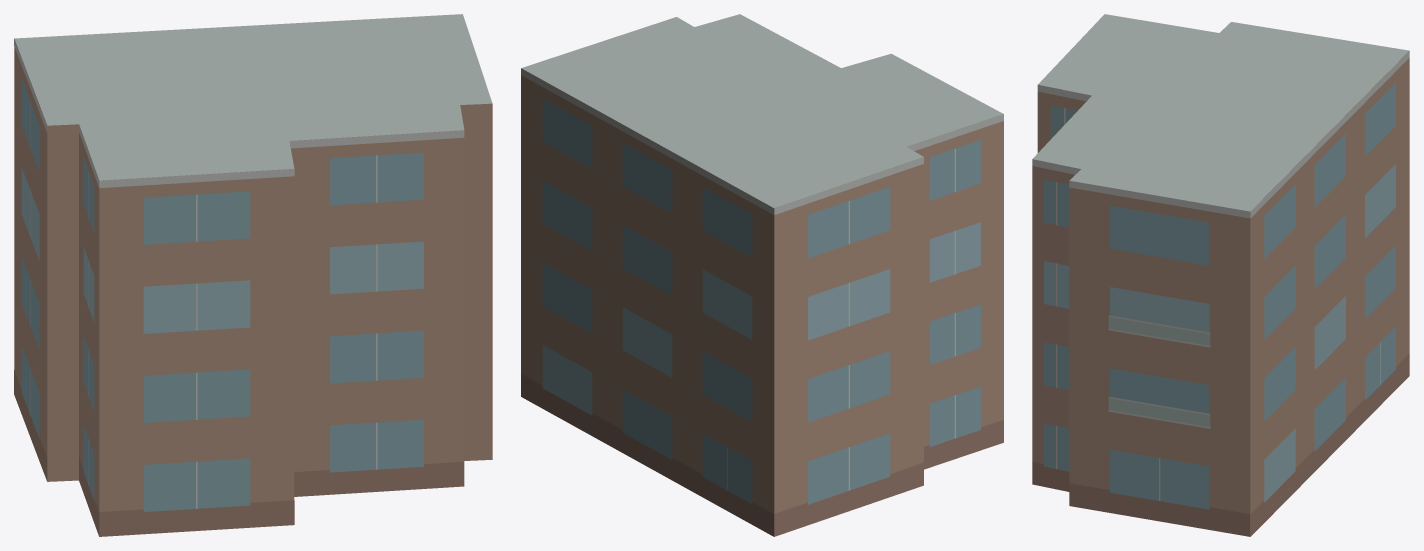
Rendered from survey-upis-32528769.glb.
3 views of the same model, side by side, from view 1: azimuth 30°, elevation 25°; view 2: azimuth 150°, elevation 25°; view 3: azimuth 270°, elevation 25° (orthographic). The views are drawn at different scales.
Visible parts, largest first — view 1: survey-upis-32528769.tmp; view 2: survey-upis-32528769.tmp; view 3: survey-upis-32528769.tmp.
Boxes of the visible parts, box(x1,y1,x2,y2) form: survey-upis-32528769.tmp: box(14, 14, 492, 536); survey-upis-32528769.tmp: box(521, 14, 1003, 536); survey-upis-32528769.tmp: box(1032, 14, 1409, 536).
Bounding box in the file's own units: 15.12 × 11.6 × 12.2.
